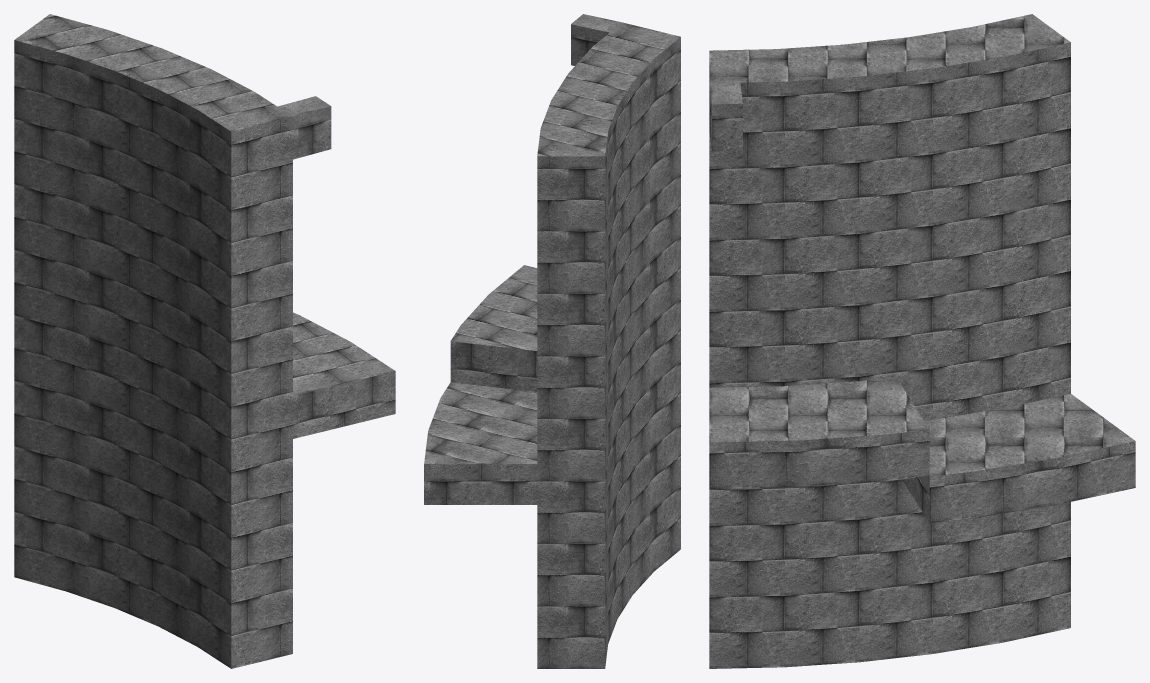
Rendered from tile5.dae.
The picture shows the model from 3 angles, left to right: view 1: azimuth 30°, elevation 25°; view 2: azimuth 150°, elevation 25°; view 3: azimuth 270°, elevation 25°; orthographic projection. The views are drawn at different scales.
Parts seen in each view (by area): view 1: SketchUp; view 2: SketchUp; view 3: SketchUp.
Boxes of the visible parts, bbox=[...] form: SketchUp: bbox=[14, 14, 395, 668]; SketchUp: bbox=[424, 14, 680, 668]; SketchUp: bbox=[709, 14, 1135, 668].
Bounding box in the file's own units: 44.68 × 64.96 × 98.43.
1 material, 1 textured.
